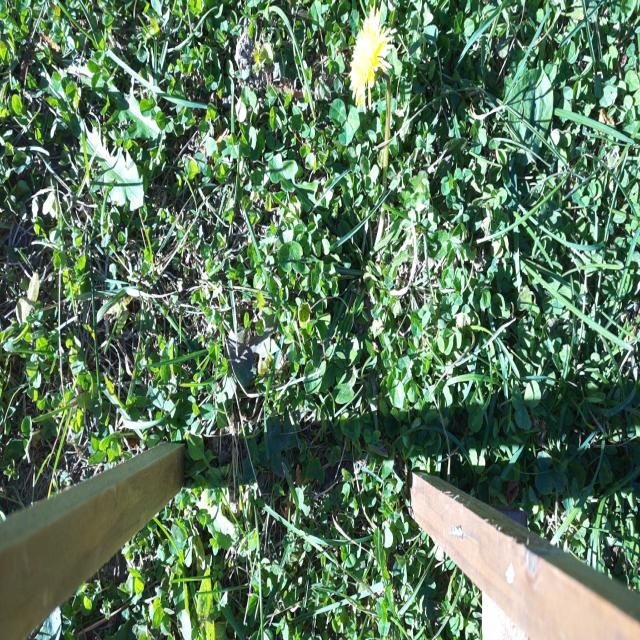base: (364, 234, 389, 277)
